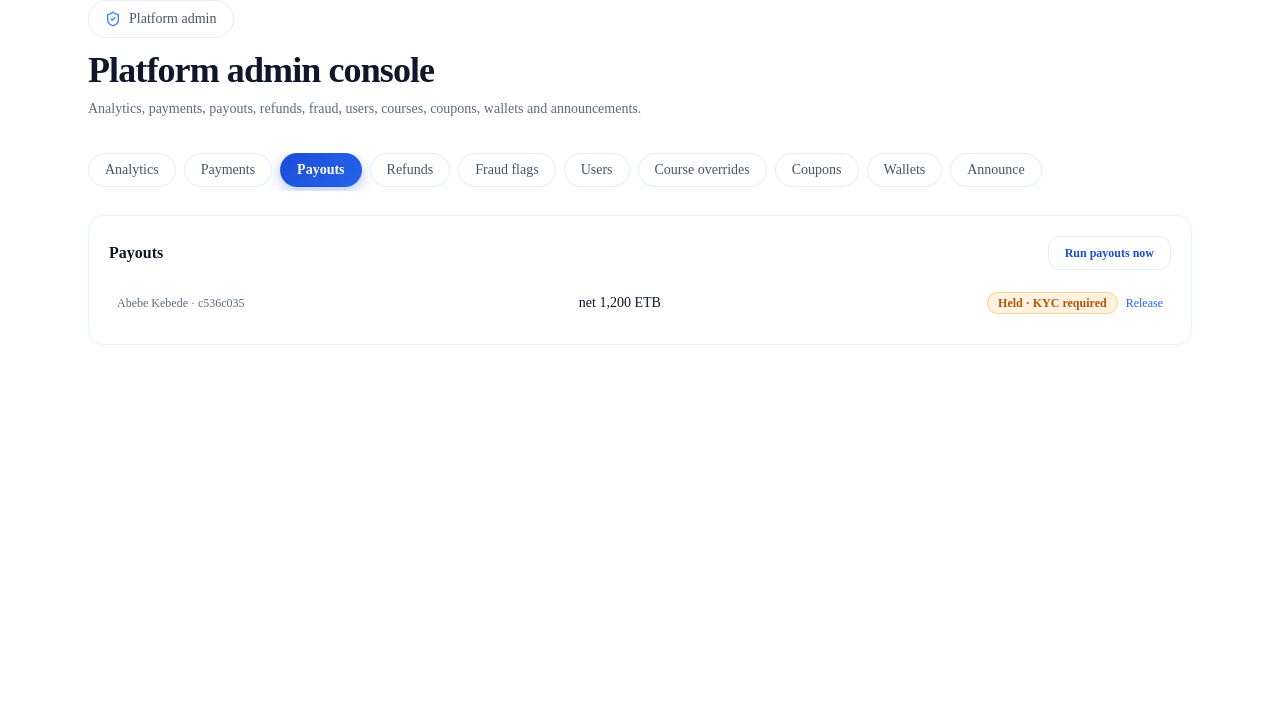
Test: Admin payouts › names an educator payee with the short id as secondary text
Expected: the text "Abebe Kebede · c536c035" is shown, [117,295,253,311]
Click the button "Release" at (1144, 303), box [1126,295,1163,311]
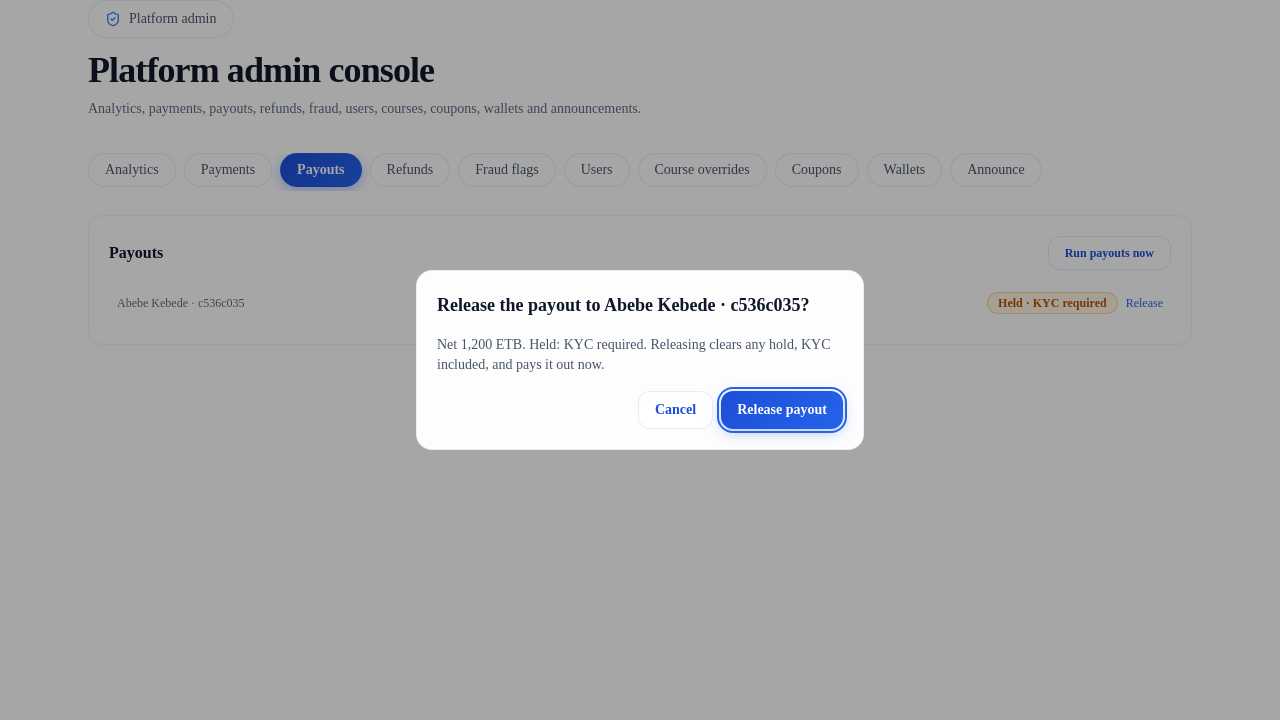
Expected: the heading "Release the payout to Abebe Kebede · c536c035?" is shown, [437,291,843,319]
